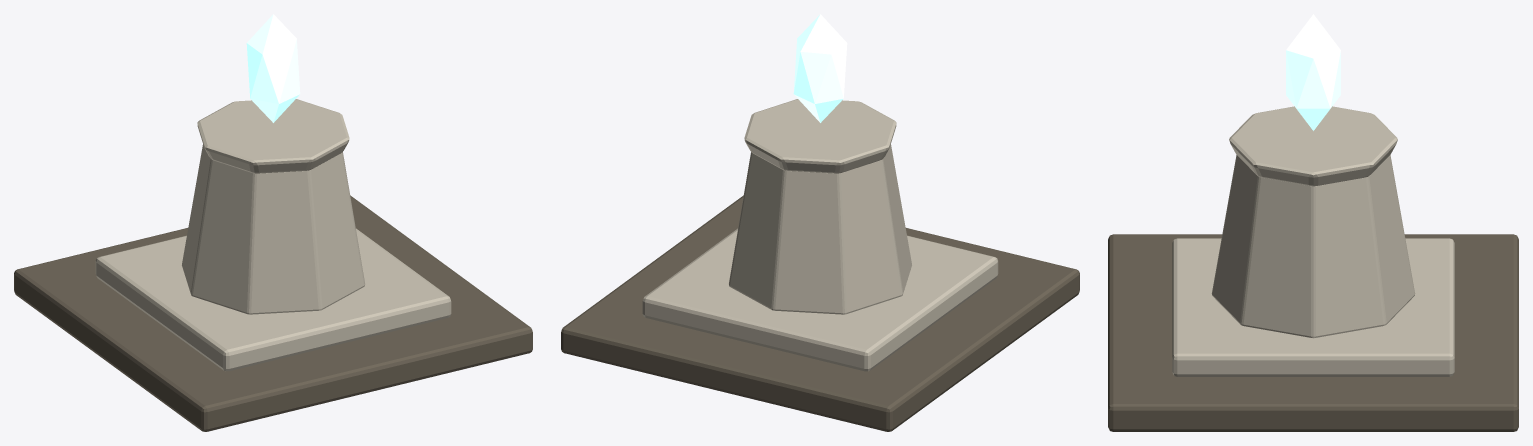
File: altar.glb
3 renders of one model, left to right at view 1: azimuth 30°, elevation 25°; view 2: azimuth 150°, elevation 25°; view 3: azimuth 270°, elevation 25°, orthographic. The views are drawn at different scales.
Parts seen in each view (by area): view 1: Cube, Cone, Cube.001, Cone.001, Icosphere; view 2: Cube, Cone, Cube.001, Cone.001, Icosphere; view 3: Cube, Cone, Cube.001, Cone.001, Icosphere.
Boxes of the visible parts, x1=… form: Cube: x1=14, y1=195, x2=532, y2=431; Cone: x1=182, y1=144, x2=364, y2=314; Cube.001: x1=95, y1=228, x2=451, y2=371; Cone.001: x1=197, y1=99, x2=349, y2=173; Icosphere: x1=246, y1=14, x2=300, y2=122; Cube: x1=561, y1=195, x2=1079, y2=431; Cone: x1=729, y1=144, x2=911, y2=314; Cube.001: x1=642, y1=228, x2=998, y2=371; Cone.001: x1=744, y1=99, x2=896, y2=173; Icosphere: x1=793, y1=14, x2=847, y2=122; Cube: x1=1108, y1=234, x2=1518, y2=431; Cone: x1=1211, y1=155, x2=1415, y2=338; Cube.001: x1=1172, y1=238, x2=1454, y2=376; Cone.001: x1=1229, y1=106, x2=1397, y2=186; Icosphere: x1=1286, y1=14, x2=1340, y2=130.
Size of the model in its own units: 1.6 by 1.43 by 1.6.
